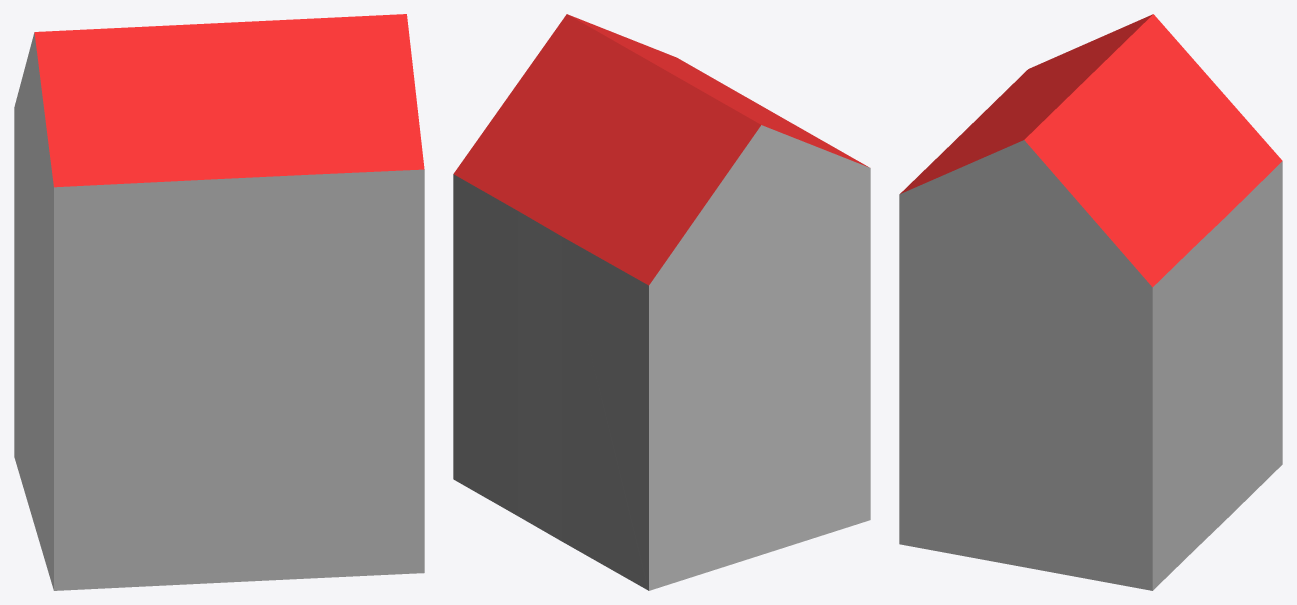
Rendered from DEBY_LOD2_4907135.dae.
The picture shows the model from 3 angles, left to right: view 1: azimuth 30°, elevation 25°; view 2: azimuth 150°, elevation 25°; view 3: azimuth 270°, elevation 25°; orthographic projection. The views are drawn at different scales.
Size of the model in its own units: 18.34 by 17.28 by 21.25.
